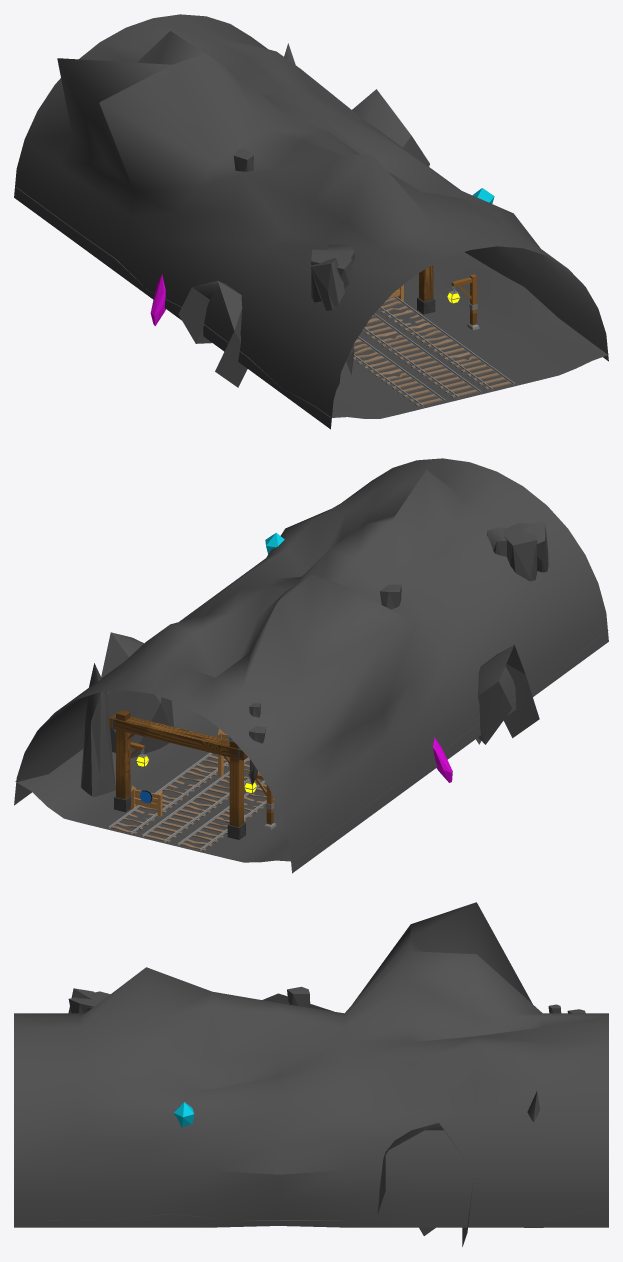
The model's file is Modulo Obstaculo 4.fbx.
3 views of the same model, one above another, from view 1: azimuth 30°, elevation 25°; view 2: azimuth 150°, elevation 25°; view 3: azimuth 270°, elevation 25° (orthographic). The views are drawn at different scales.
Visible parts, largest first — view 1: Cube.024; view 2: Cube.024; view 3: Cube.024.
Boxes of the visible parts, box(x1,y1,x2,y2) form: Cube.024: box(14, 14, 608, 429); Cube.024: box(14, 458, 608, 873); Cube.024: box(14, 902, 608, 1246).
Size of the model in its own units: 2820 by 1928 by 4761.
